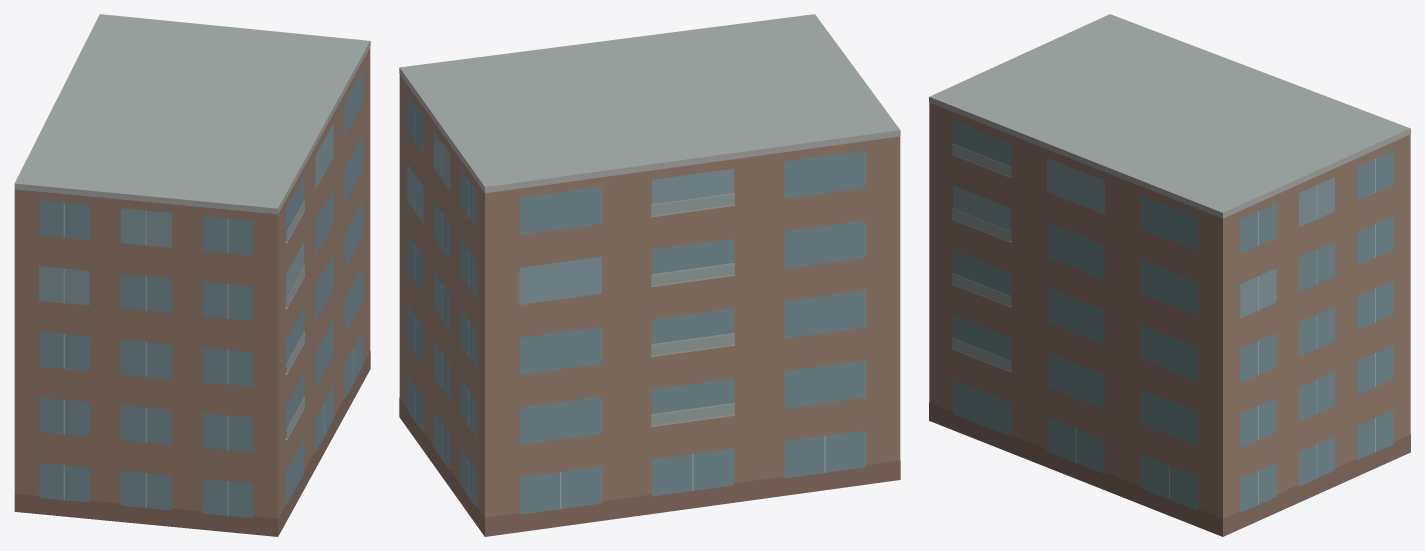
The model's file is survey-upis-32883698.glb.
The picture shows the model from 3 angles, left to right: view 1: azimuth 30°, elevation 25°; view 2: azimuth 150°, elevation 25°; view 3: azimuth 270°, elevation 25°; orthographic projection. The views are drawn at different scales.
Visible parts, largest first — view 1: survey-upis-32883698.tmp; view 2: survey-upis-32883698.tmp; view 3: survey-upis-32883698.tmp.
Boxes of the visible parts, x1,y1,x2,y2 form: survey-upis-32883698.tmp: (14,14,370,536); survey-upis-32883698.tmp: (399,14,900,536); survey-upis-32883698.tmp: (929,14,1410,536).
Bounding box in the file's own units: 18.18 × 13.8 × 18.6.
